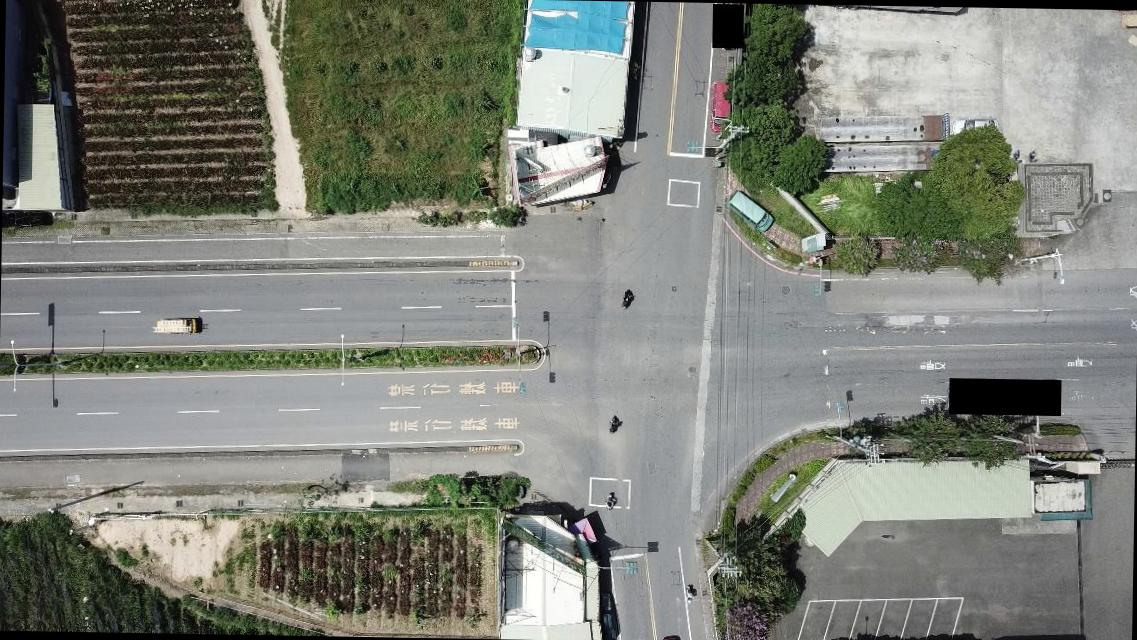vehicle: (729, 188, 774, 230), (706, 78, 732, 132), (952, 116, 1000, 140), (156, 314, 205, 336)
